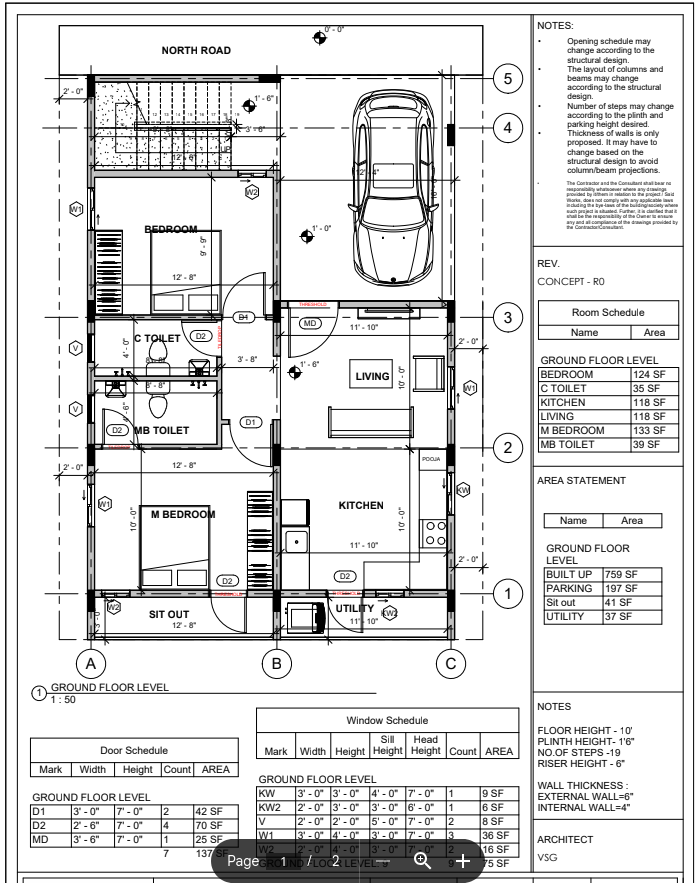door: (287, 302, 341, 360), (218, 268, 269, 320), (228, 419, 274, 468), (208, 591, 248, 638), (181, 317, 222, 361), (325, 591, 365, 635), (101, 405, 140, 448)
